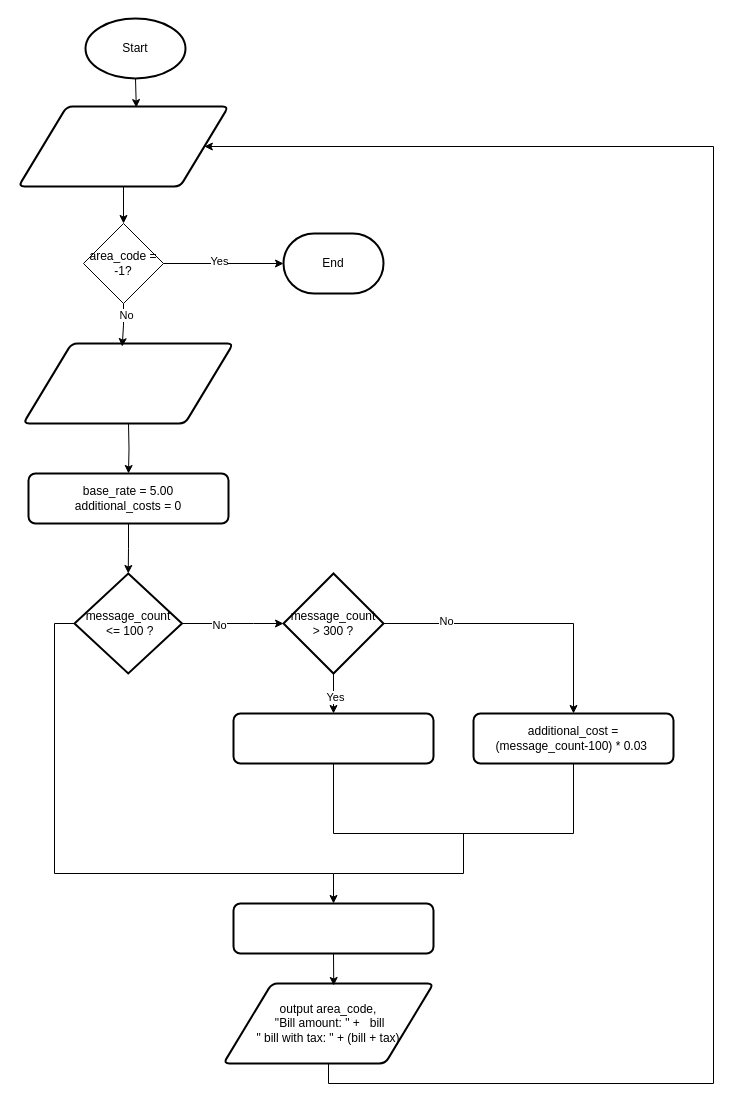
The diagram is 739 pixels wide and 1109 high, and some of its shapes have lost their labels. The shapes that lost their labels are listed below. From the top down, each one's centre as x and y in pixels, then its label:
At (x=123, y=146): "Input area_code (3 digits)".
At (x=128, y=383): "Input phone_number (7 digits) input message_count".
At (x=333, y=738): "additional_cost = (200*0.03) + ((message_count -300) *0.02)".
At (x=333, y=928): "bill = base_rate + additional_cost tax = bill * 0.14".
